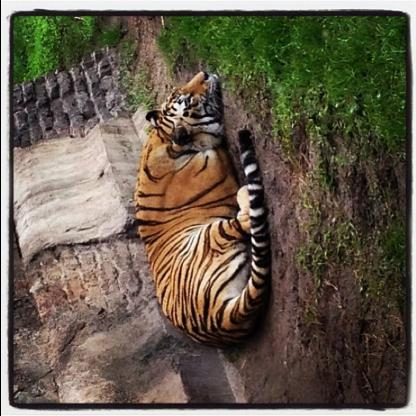tiger: (150, 65, 229, 159)
